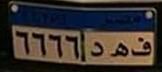6: (65, 33, 81, 59), (15, 30, 30, 56), (47, 34, 62, 58), (33, 32, 46, 56)
daal: (91, 39, 105, 57)
faa: (131, 36, 153, 56)
haa: (110, 39, 129, 60)
